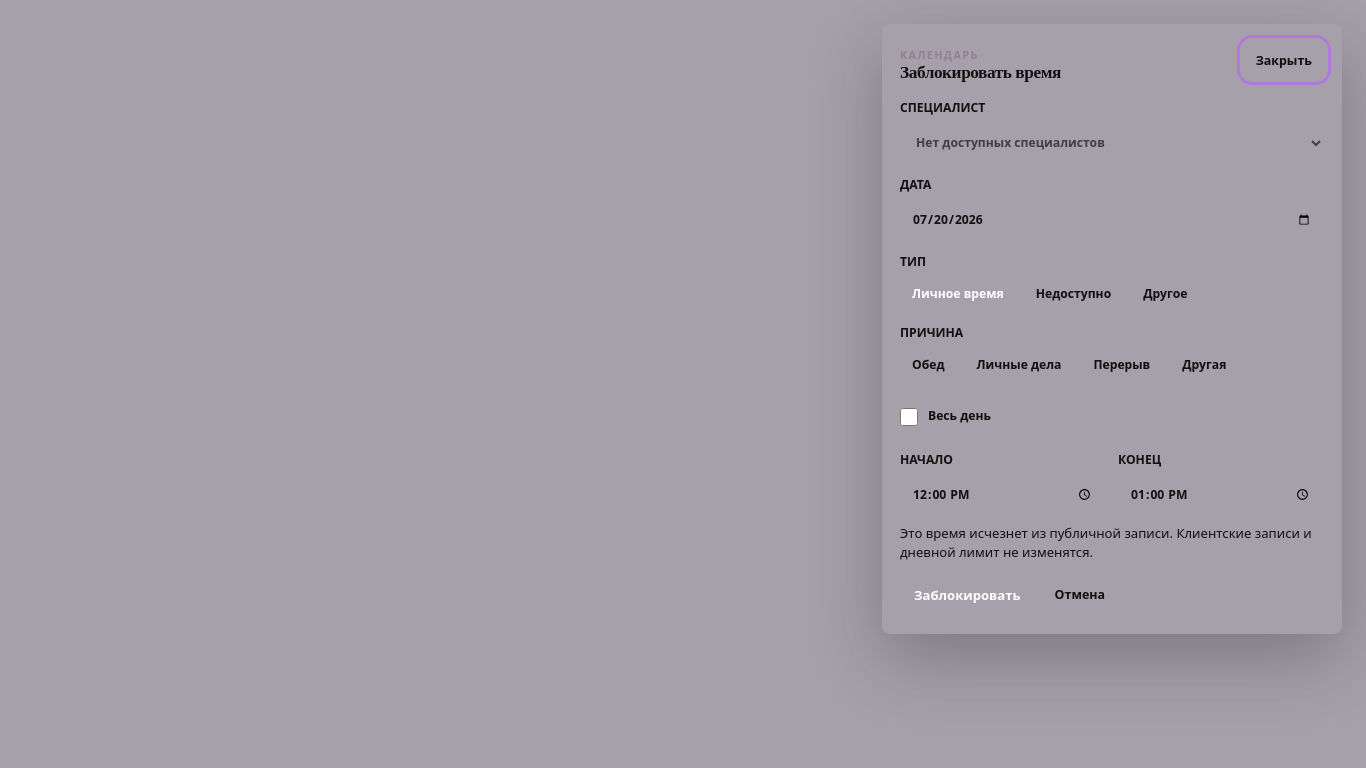
Test: CalendarBlockDialog › ignores every close action while a block is being saved
Click the button "Заблокировать" at (967,595), box [900,574,1035,616]
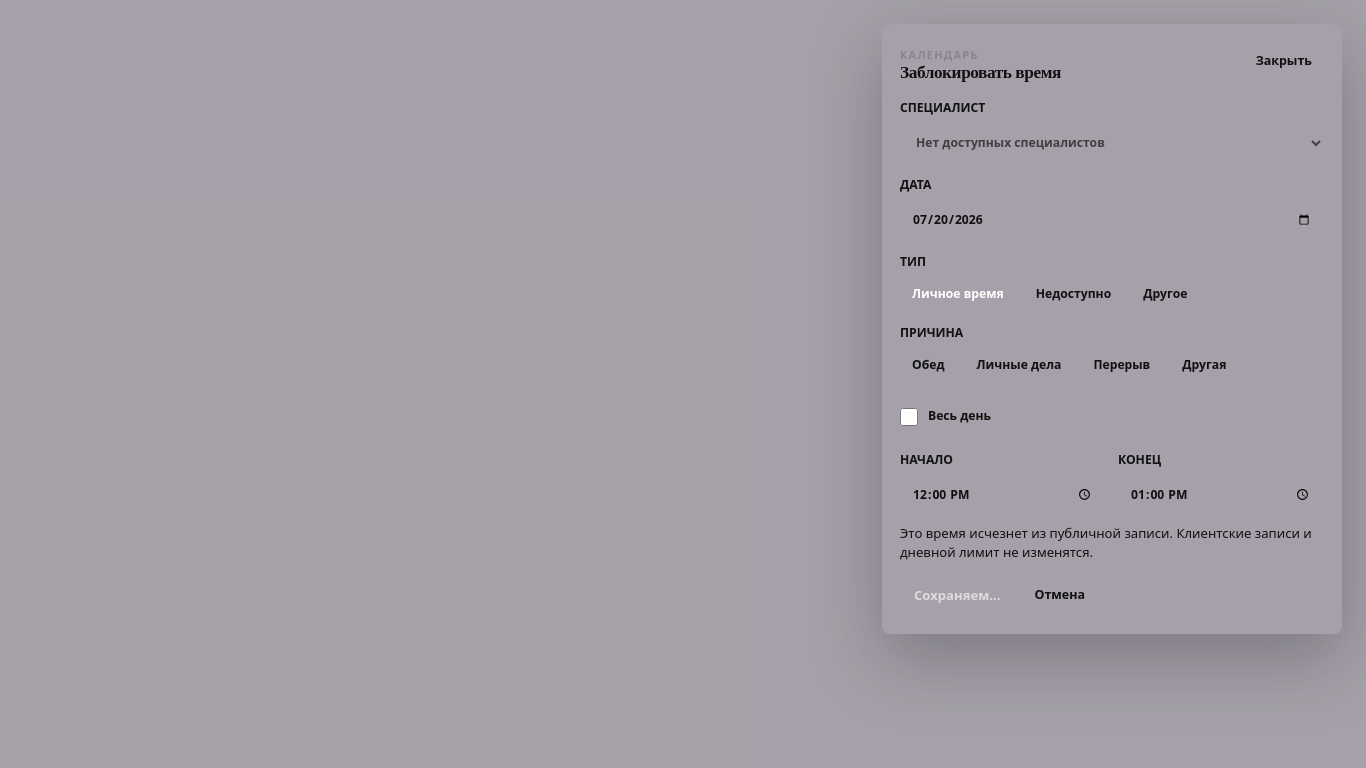
Expected: the button "Закрыть" is disabled, [1244,42,1324,78]
Now the button "Отмена" is disabled, box [1022,577,1097,613]
Press Escape
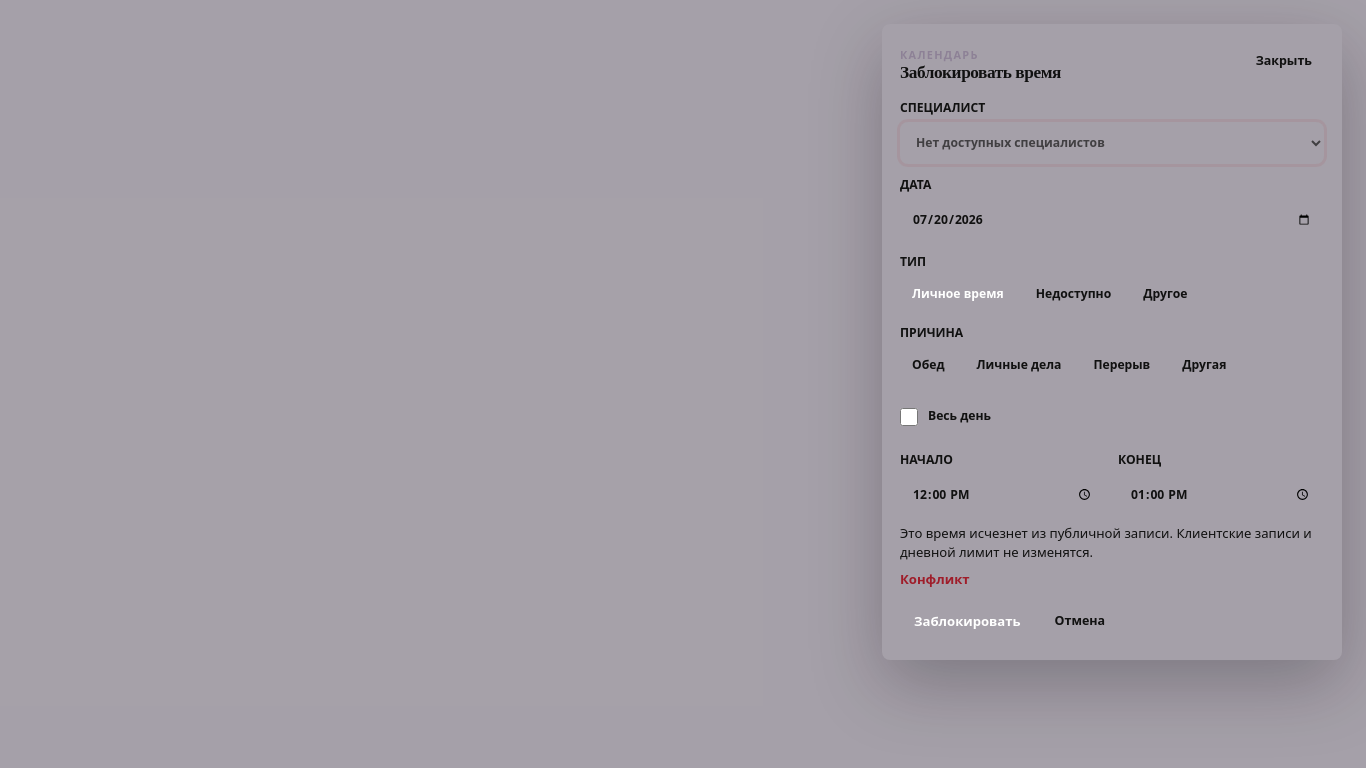
Now the message reads "Конфликт", box [900,570,970,588]
